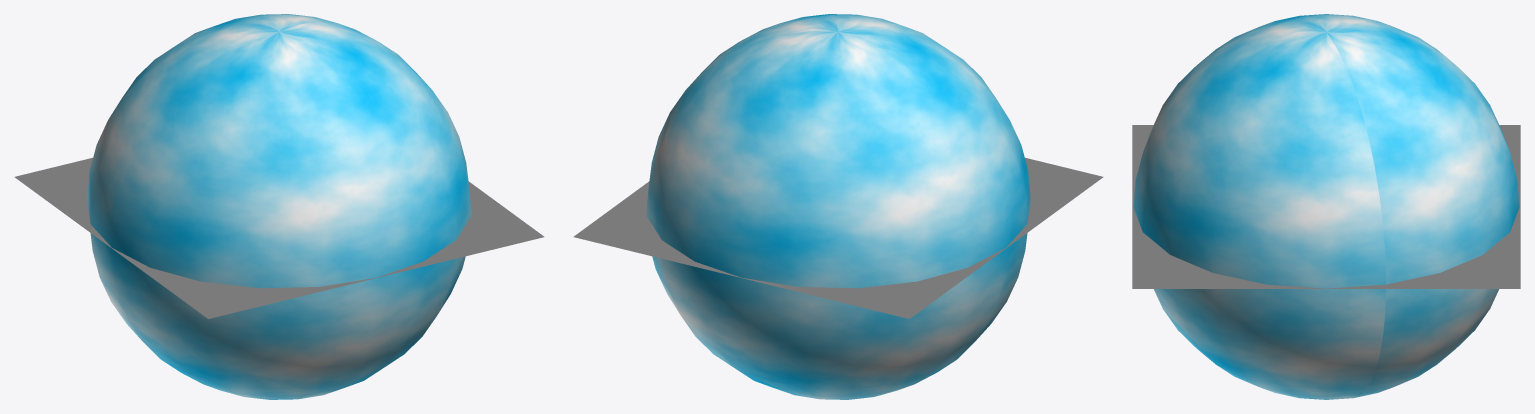
The model's file is Stage_Maya.fbx.
3 views of the same model, side by side, from view 1: azimuth 30°, elevation 25°; view 2: azimuth 150°, elevation 25°; view 3: azimuth 270°, elevation 25° (orthographic).
Visible parts, largest first — view 1: pSphere1, Stage; view 2: pSphere1, Stage; view 3: pSphere1, Stage.
Part boxes in pixels (<box>): pSphere1: <box>87,14,471,399</box>; Stage: <box>14,157,544,318</box>; pSphere1: <box>646,14,1030,399</box>; Stage: <box>573,157,1103,318</box>; pSphere1: <box>1133,14,1519,399</box>; Stage: <box>1132,125,1520,288</box>.
Size of the model in its own units: 1683 by 1675 by 1683.
